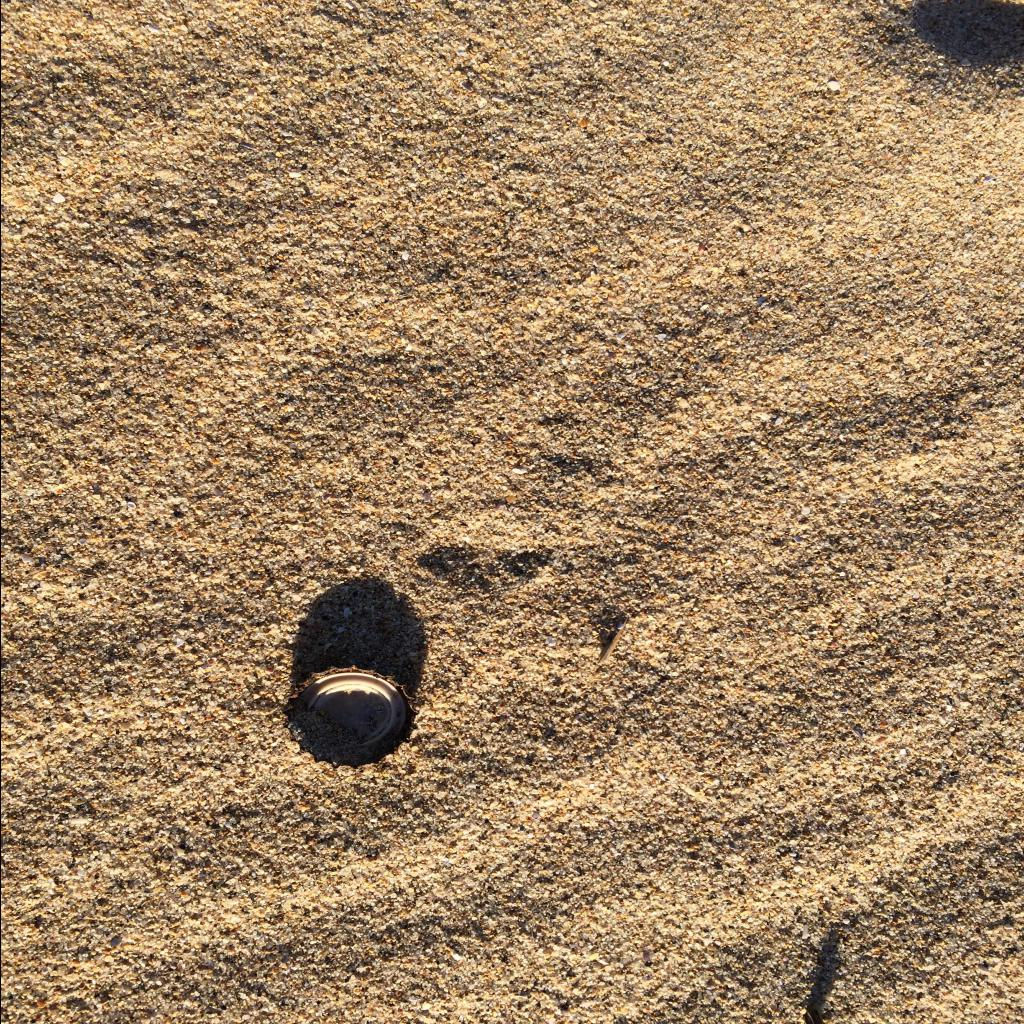Metal bottle cap: (280, 664, 418, 770)
